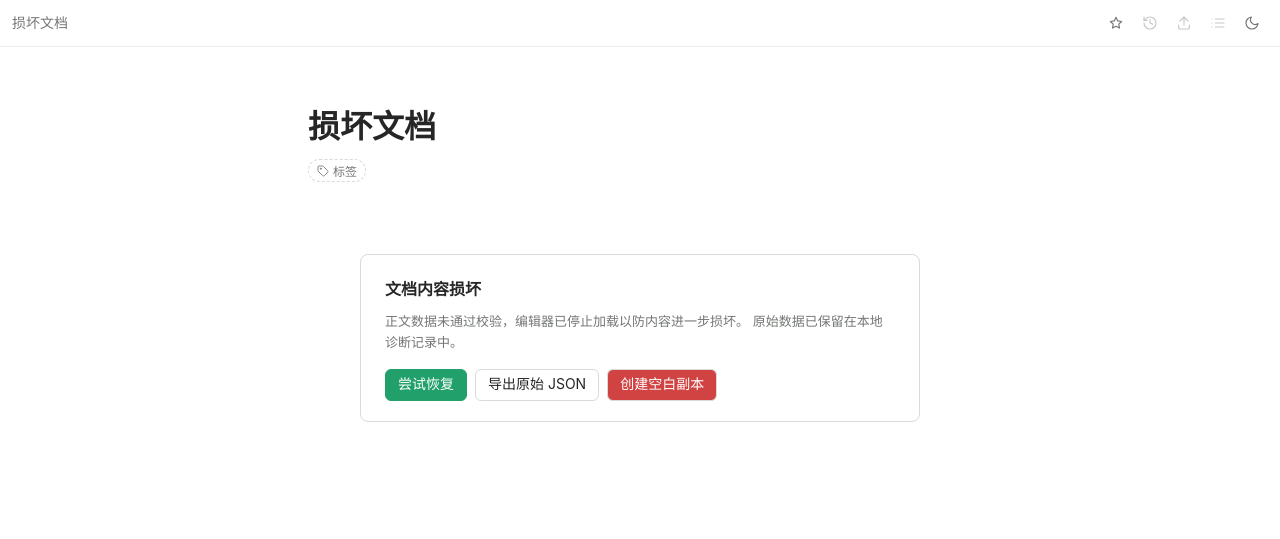
Test case: MainArea 损坏正文面板 › 创建空白副本：覆盖为合法空文档并清除诊断记录
Click the button "创建空白副本".
click(662, 385)  # box [607,369,717,401]
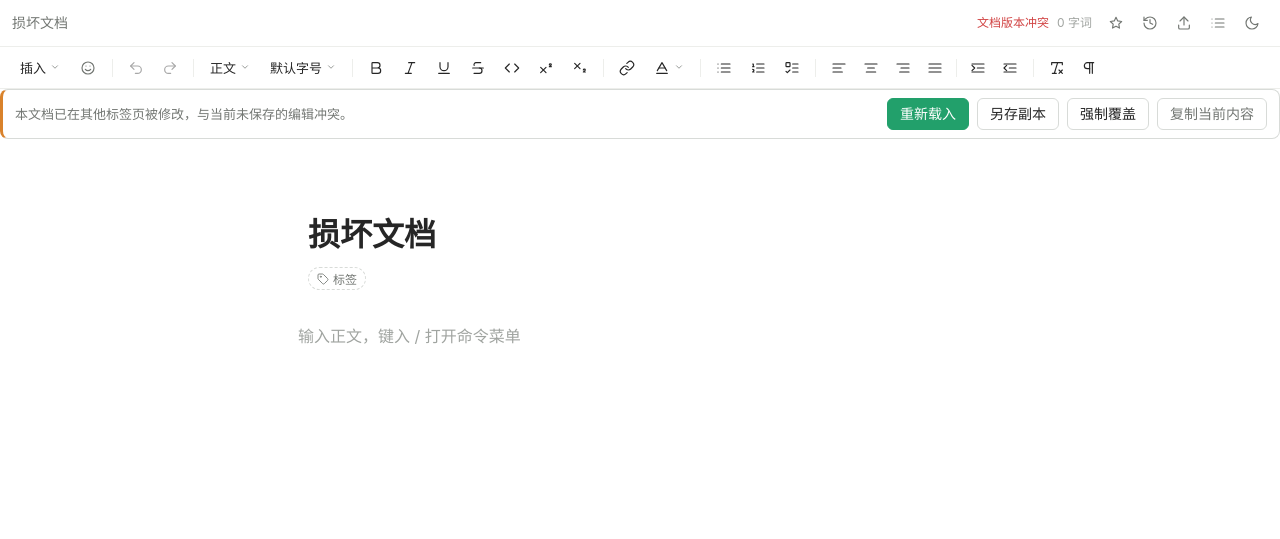
Expected: the element with class "editor__content" is shown, [298,322,982,522]
